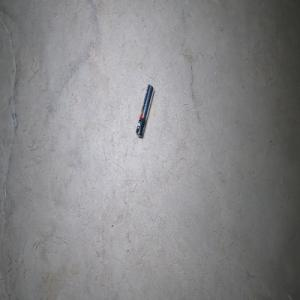Battery: (135, 84, 154, 138)
